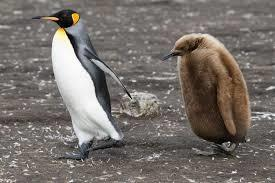king: (30, 4, 139, 164)
